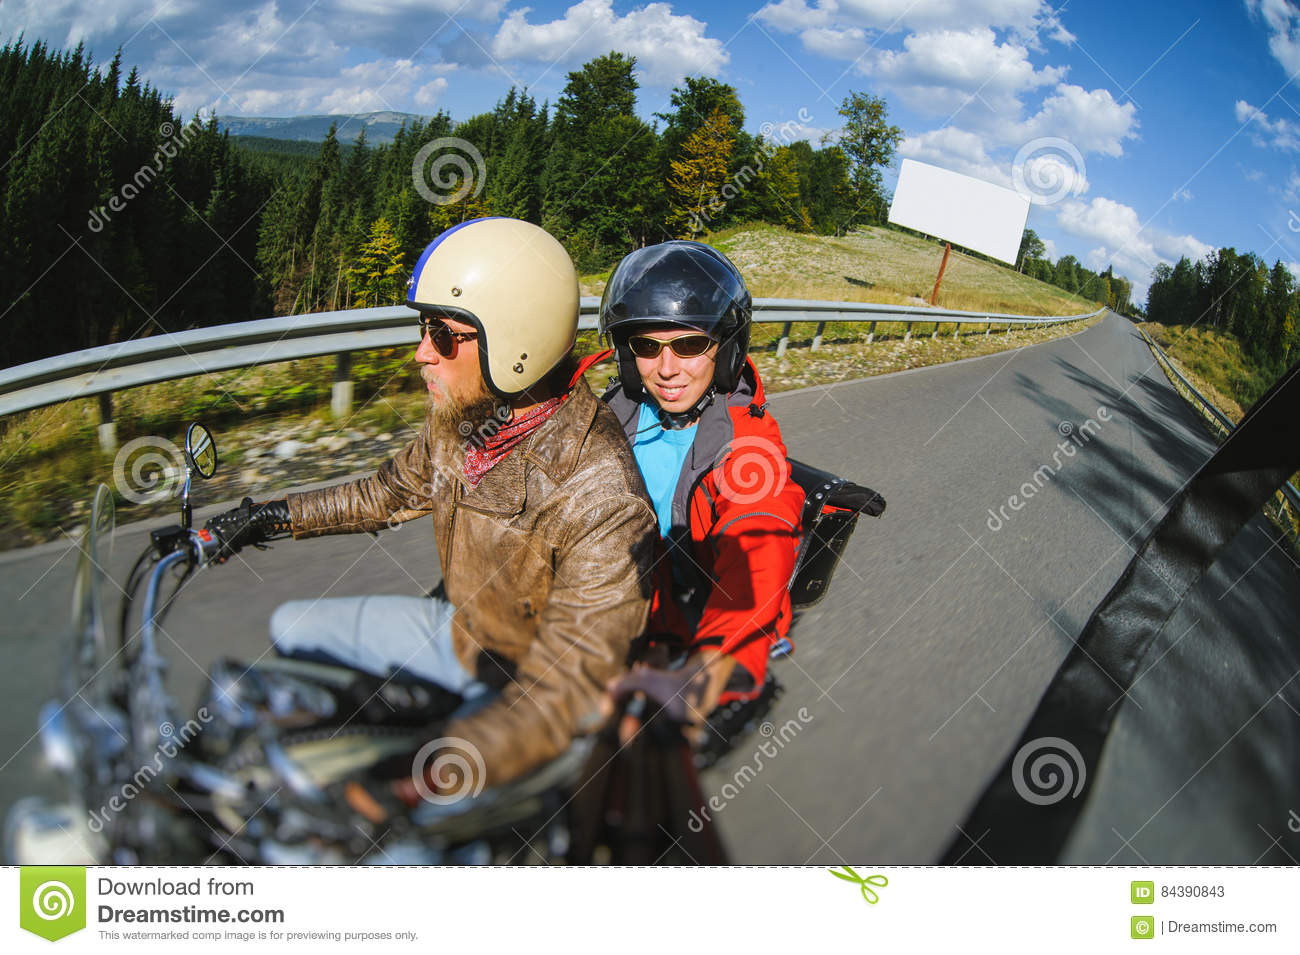helmet: (404, 195, 564, 376), (598, 230, 758, 368)
